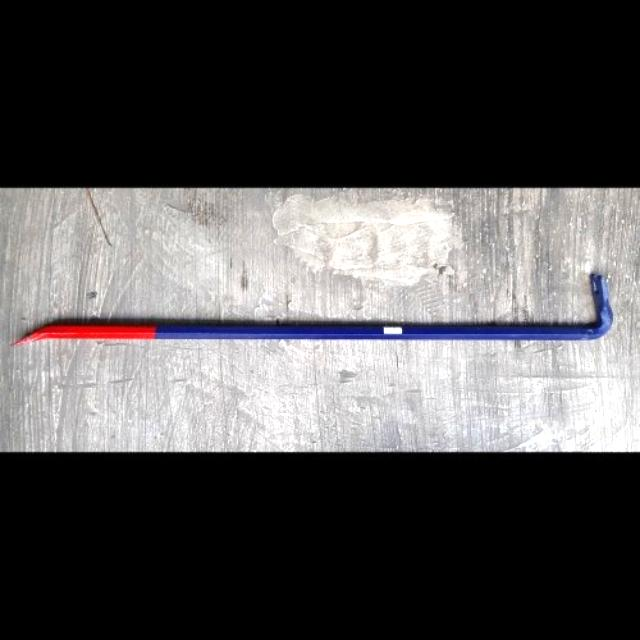crow bar: (6, 269, 612, 344)
